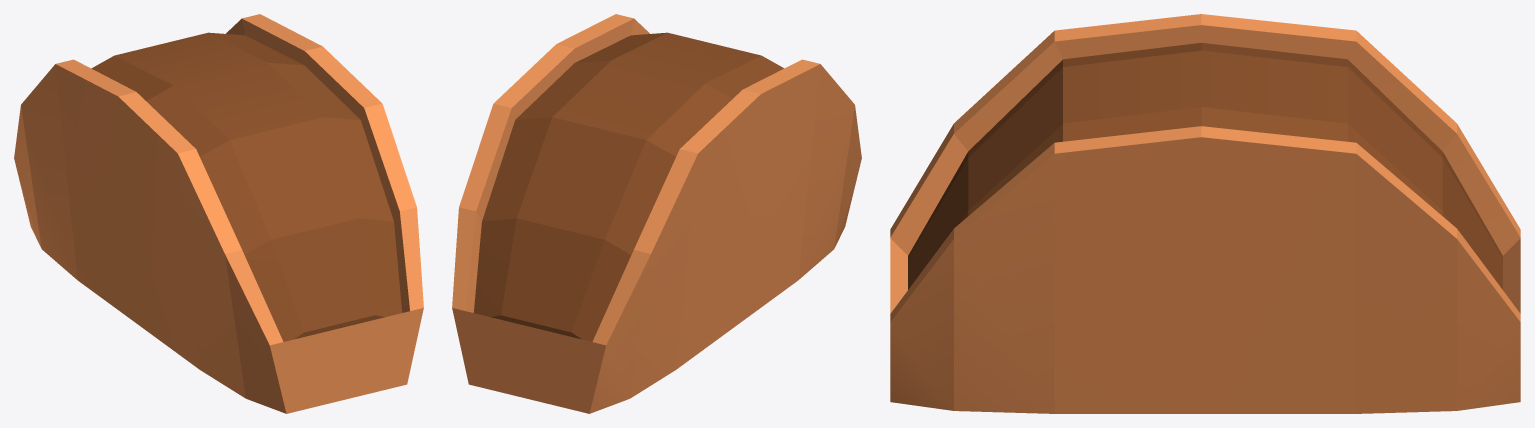
File: Taco.fbx
The picture shows the model from 3 angles, left to right: view 1: azimuth 30°, elevation 25°; view 2: azimuth 150°, elevation 25°; view 3: azimuth 270°, elevation 25°; orthographic projection. The views are drawn at different scales.
Visible parts, largest first — view 1: taco; view 2: taco; view 3: taco.
Part boxes in pixels (bbox=[...]): taco: bbox=[14, 14, 423, 413]; taco: bbox=[452, 14, 861, 413]; taco: bbox=[890, 14, 1520, 413].
Bounding box in the file's own units: 0.9655 × 1.06 × 2.09.
